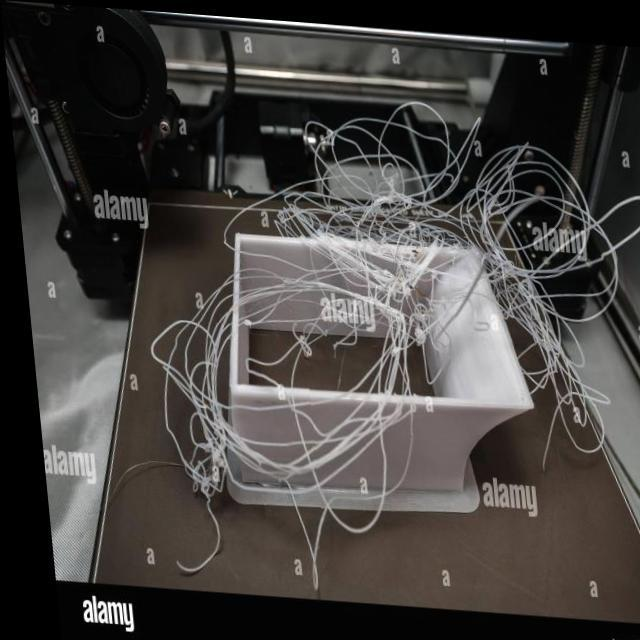spaghetti: (294, 101, 635, 270), (129, 317, 314, 529), (487, 239, 615, 497), (292, 216, 472, 393)
